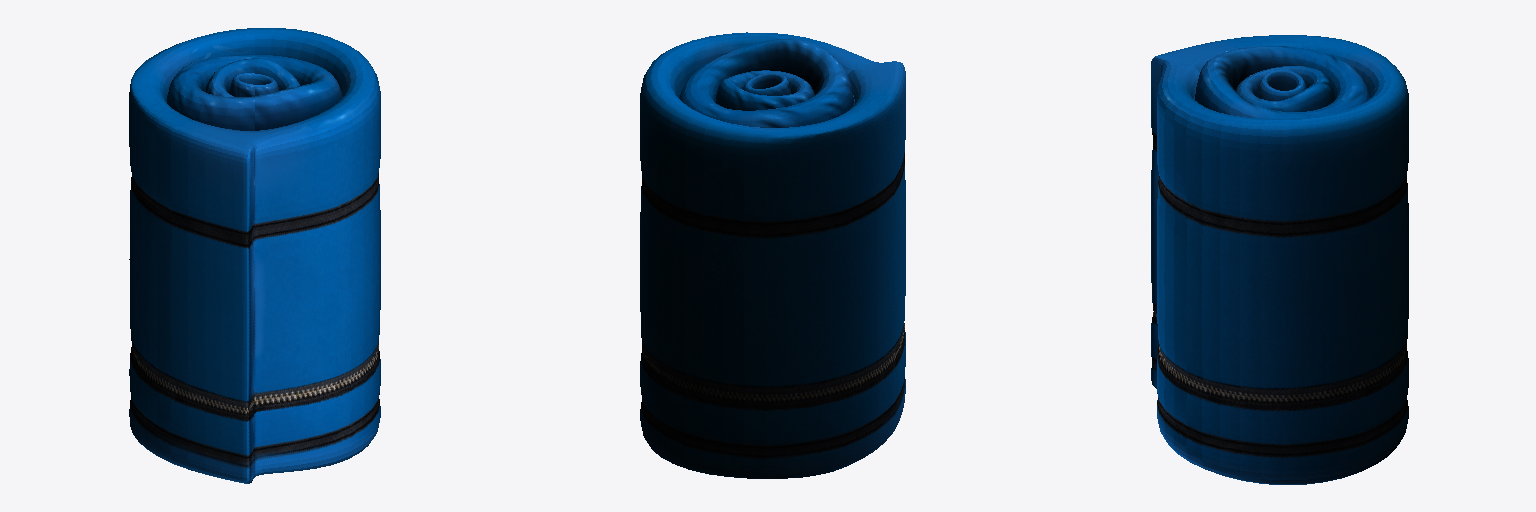
3 renders of one model, left to right at view 1: azimuth 30°, elevation 25°; view 2: azimuth 150°, elevation 25°; view 3: azimuth 270°, elevation 25°, orthographic.
Visible parts, largest first — view 1: 10531_Burgundy_Mesh_Bag_v1; view 2: 10531_Burgundy_Mesh_Bag_v1; view 3: 10531_Burgundy_Mesh_Bag_v1.
Part boxes in pixels (x1,y1,x2,y2): 10531_Burgundy_Mesh_Bag_v1: (129,28,380,483); 10531_Burgundy_Mesh_Bag_v1: (640,32,905,478); 10531_Burgundy_Mesh_Bag_v1: (1151,35,1408,484).
Size of the model in its own units: 44.74 by 74.16 by 45.65.
Materials: 1 (1 with a texture image).